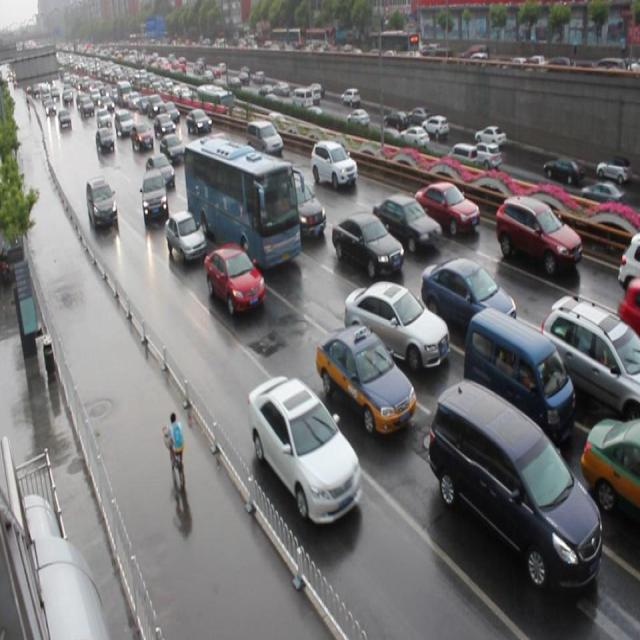car: (246, 373, 363, 524), (537, 296, 640, 427), (316, 324, 414, 436), (343, 280, 451, 368), (418, 254, 515, 341), (493, 192, 581, 276), (577, 418, 640, 528), (332, 210, 404, 277), (203, 243, 266, 313), (372, 194, 440, 254), (412, 180, 480, 235), (279, 177, 326, 240), (309, 138, 358, 189), (164, 208, 206, 264), (618, 229, 640, 310), (142, 168, 168, 223), (146, 152, 176, 187)
truck: (427, 382, 600, 595), (462, 308, 571, 439), (85, 176, 118, 229), (245, 118, 285, 157)
van: (182, 139, 299, 272)
